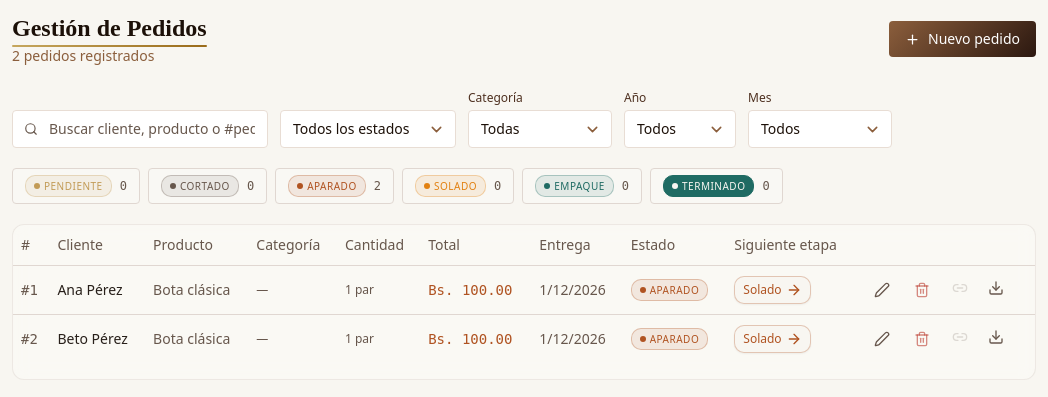
Test: PedidosView — filtro de búsqueda › filtra por nombre de cliente o de producto
Expected: the text "#1" is shown, x1=13 y1=265 x2=49 y2=314
Expected: the text "#2" is shown, x1=13 y1=314 x2=49 y2=362
Type "Ana" into the field with placeholder "Buscar cliente, producto o #pedido...".
click(140, 129); type("Ana")  # box x1=12 y1=110 x2=268 y2=148
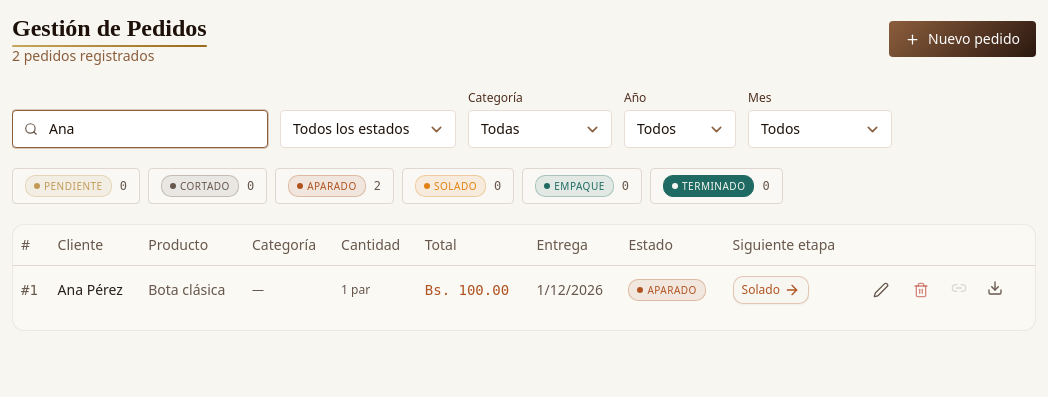
Expected: the text "#1" is shown, x1=13 y1=265 x2=50 y2=314
Result: the text "#2" is gone
